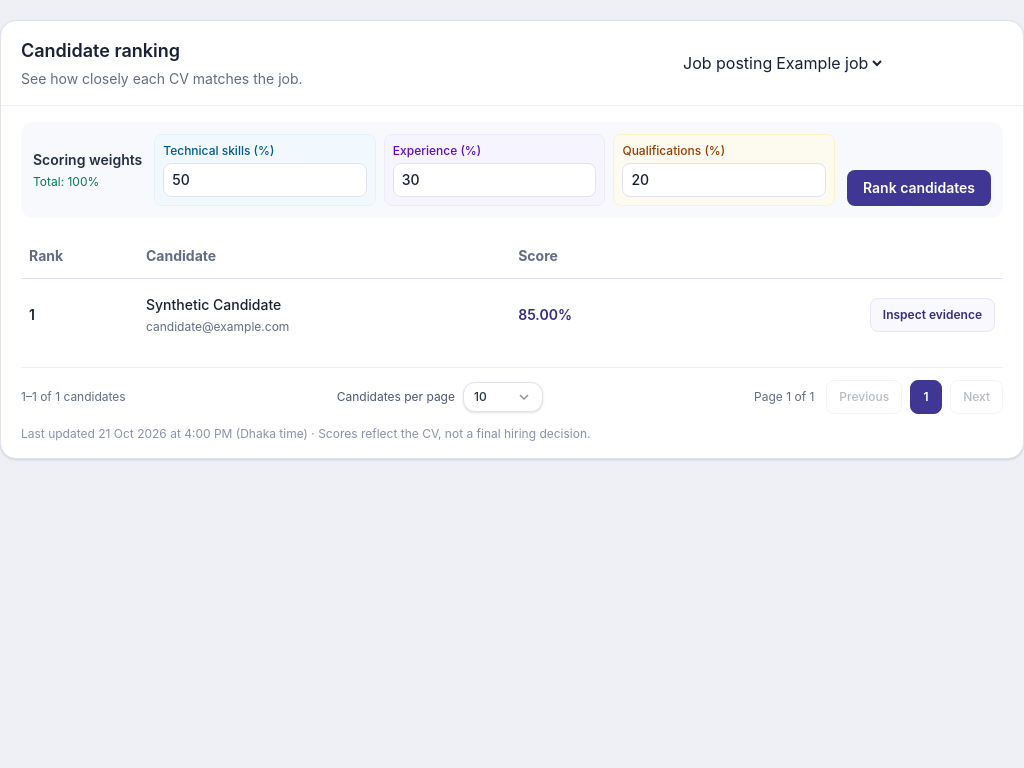
validates totals and keeps saving and ranking behavior intact
Expected: the text "Synthetic Candidate" is shown, [146, 296, 281, 313]
Replace the text in the number field labelled "Technical skills (%)" with "60": (265, 180) [163, 163, 367, 197]
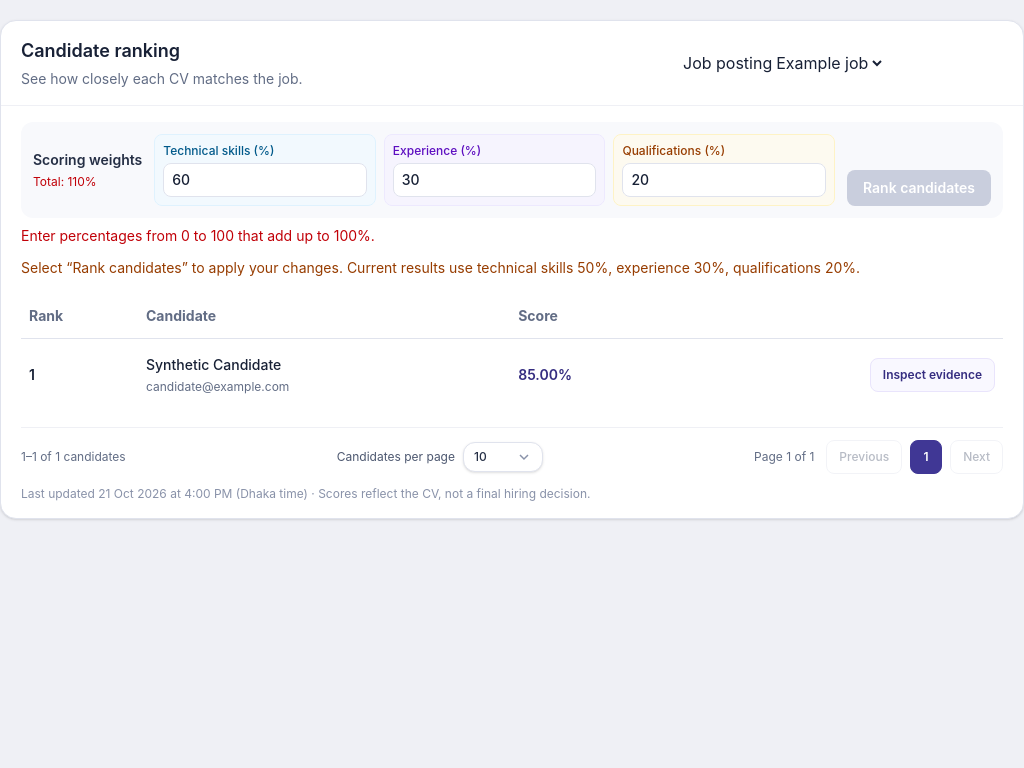
Expected: the button "Rank candidates" is disabled, [847, 170, 991, 206]
Expected: the text "Enter percentages from 0 to 100 that add up to 100%." is shown, [21, 227, 375, 244]
Expected: the text "Current results use technical skills 50%" is shown, [21, 258, 1003, 278]
Replace the text in the number field labelled "Experience (%)" with "20": (495, 180) [393, 163, 596, 197]
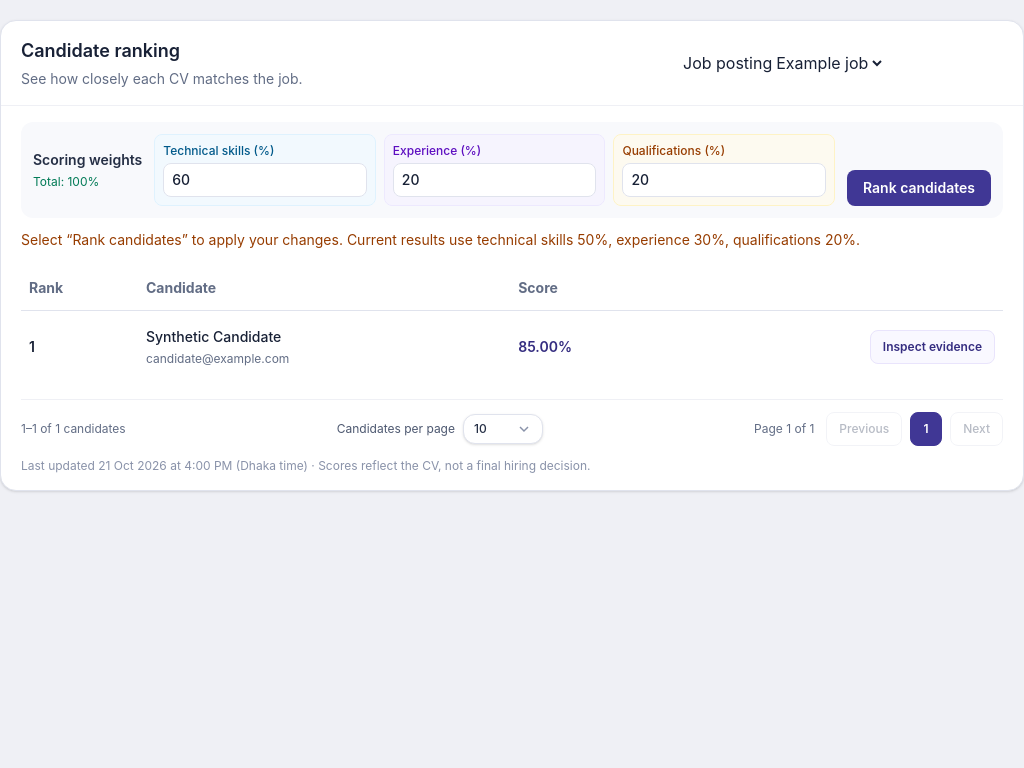
Click the button "Rank candidates": (919, 188) [847, 170, 991, 206]
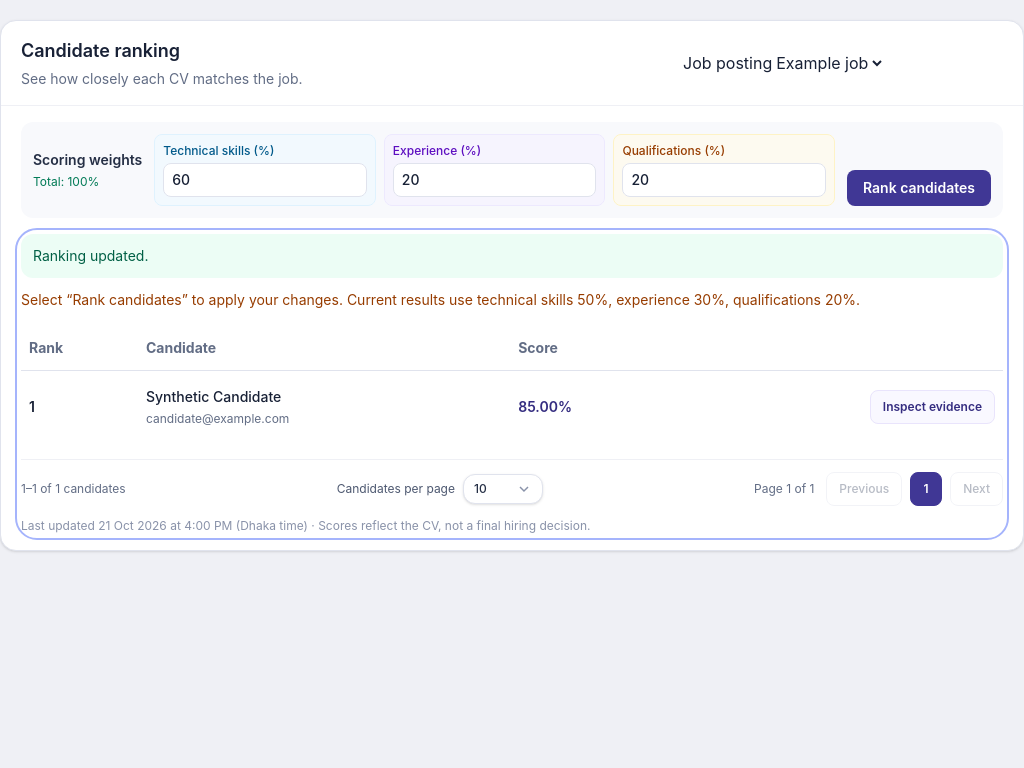
Expected: the text "Ranking updated." is shown, [21, 234, 1003, 278]
